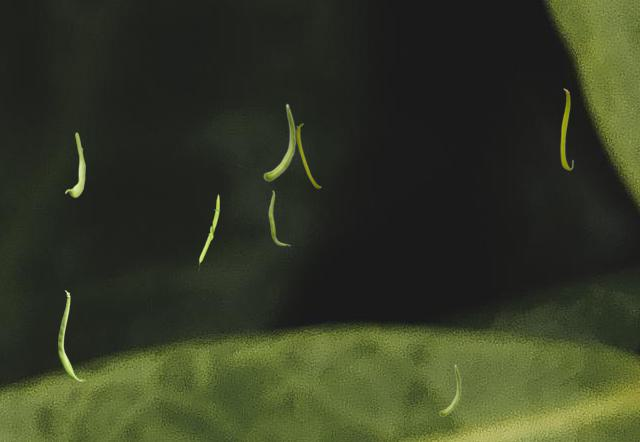french_bean: (263, 103, 295, 180), (58, 290, 85, 380), (198, 193, 219, 270), (296, 123, 320, 187), (65, 132, 84, 196), (268, 190, 289, 245), (439, 364, 460, 415), (560, 88, 572, 169)
